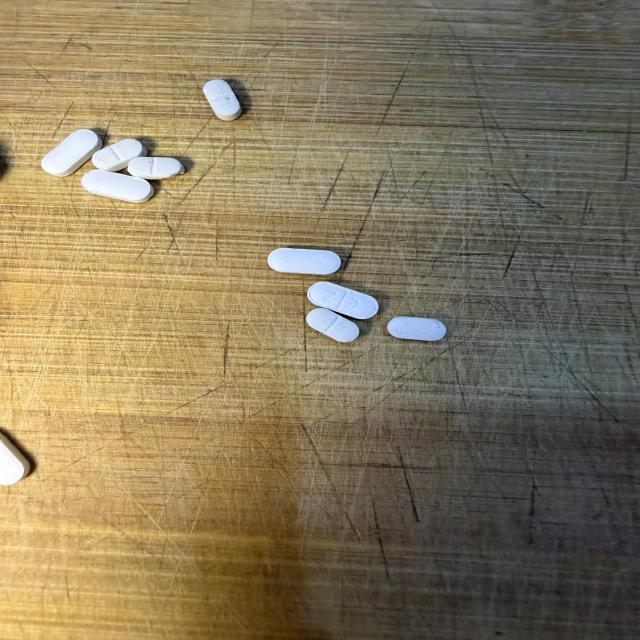pill: (41, 129, 102, 176), (308, 282, 378, 319), (82, 170, 154, 202), (268, 248, 340, 274), (306, 308, 359, 342), (92, 139, 147, 171), (0, 434, 30, 485), (203, 80, 241, 120), (387, 317, 446, 340), (128, 157, 184, 179)
